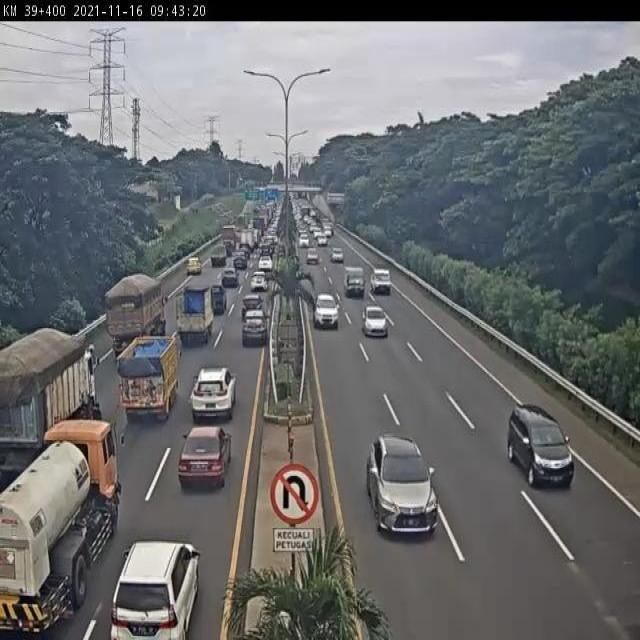car: (110, 541, 200, 640), (367, 433, 437, 543), (505, 401, 573, 496), (176, 428, 225, 499), (190, 360, 234, 429), (238, 308, 270, 356), (362, 304, 395, 337), (315, 292, 342, 331), (202, 278, 226, 314), (372, 264, 394, 297), (243, 287, 260, 316), (181, 253, 199, 280), (221, 263, 237, 292), (251, 267, 266, 297), (231, 250, 243, 270), (259, 253, 272, 271), (305, 247, 320, 261), (298, 231, 310, 245), (332, 245, 340, 260), (317, 238, 326, 245)
small truck: (342, 266, 364, 298), (209, 244, 226, 267)
truck-l-: (0, 323, 103, 493), (106, 275, 171, 368)
truck-m-: (0, 416, 127, 637), (114, 325, 181, 423), (170, 281, 212, 343)
